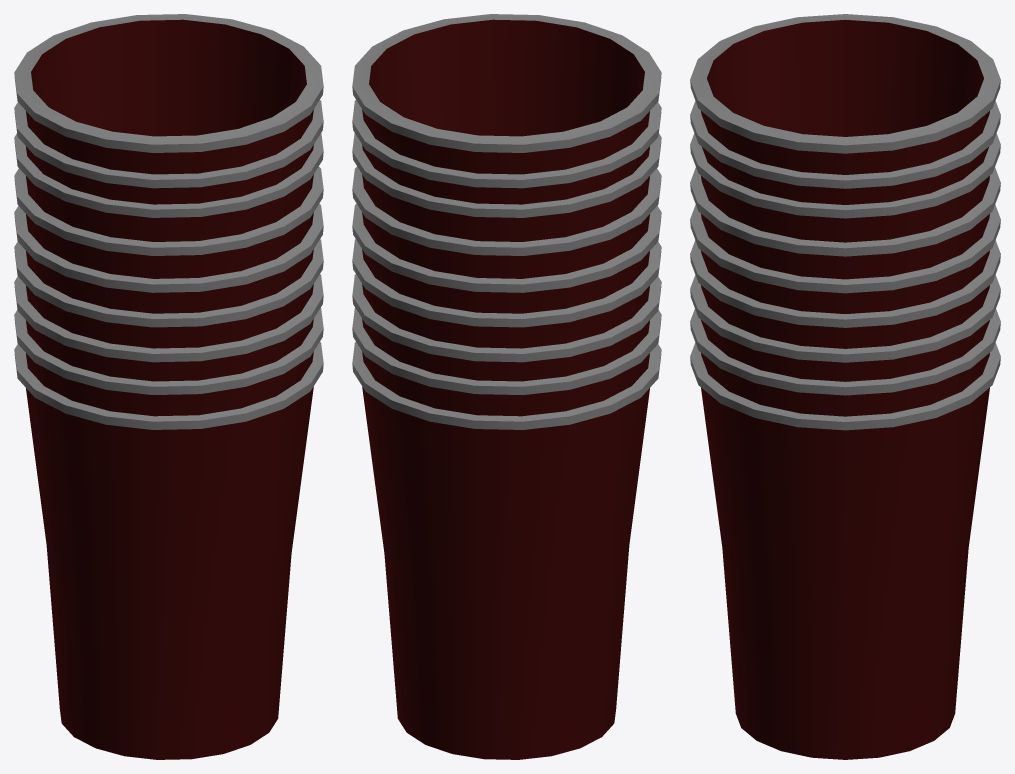
File: stackofcups.fbx
3 renders of one model, left to right at view 1: azimuth 30°, elevation 25°; view 2: azimuth 150°, elevation 25°; view 3: azimuth 270°, elevation 25°, orthographic.
Parts seen in each view (by area): view 1: stackofcups; view 2: stackofcups; view 3: stackofcups.
Boxes of the visible parts, left/top/right/bottom form: stackofcups: left=14, top=14, right=323, bottom=759; stackofcups: left=352, top=14, right=661, bottom=759; stackofcups: left=690, top=14, right=1000, bottom=759.
Bounding box in the file's own units: 4.49 × 10.12 × 4.49.
